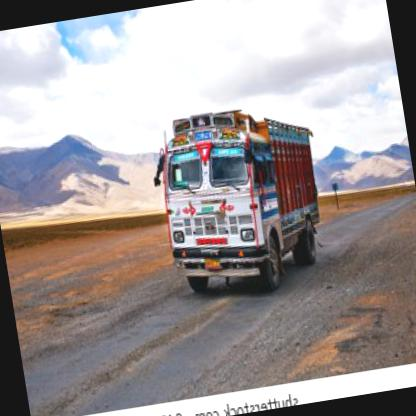truck: (152, 96, 332, 302)
